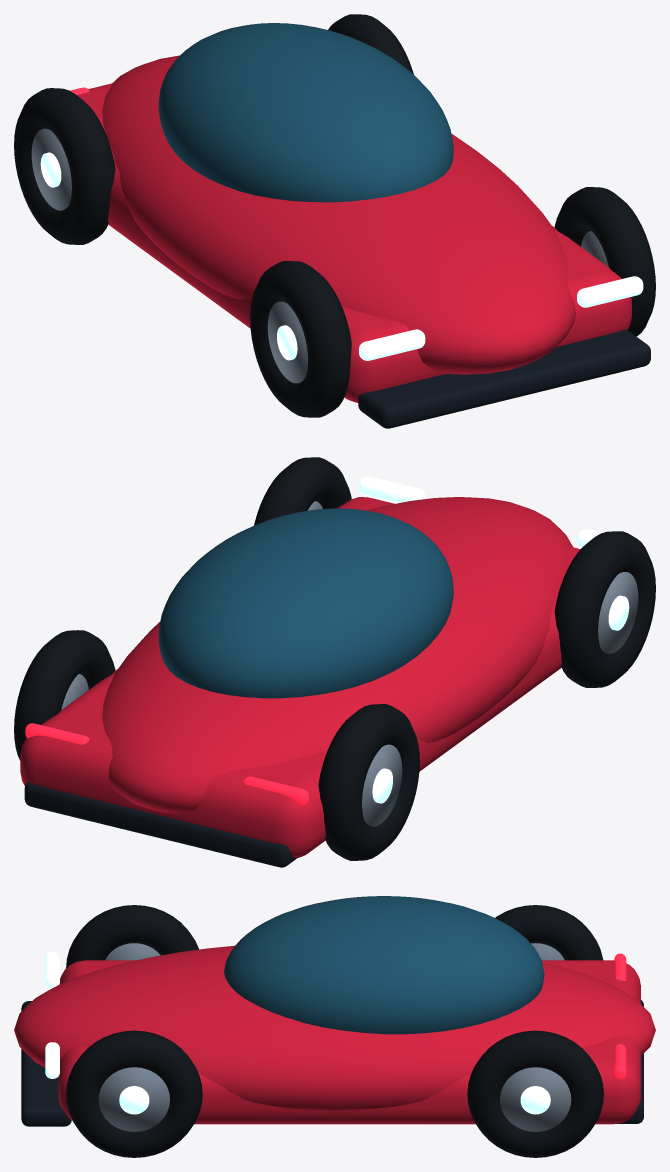
The model's file is rainline_apex_s.glb.
The picture shows the model from 3 angles, top to bottom: view 1: azimuth 30°, elevation 25°; view 2: azimuth 150°, elevation 25°; view 3: azimuth 270°, elevation 25°; orthographic projection. The views are drawn at different scales.
Parts seen in each view (by area): view 1: Apex smooth body, Apex glass canopy, Apex lower body, Apex front splitter, Apex wheel Tire, Apex wheel Tire.001, Apex wheel Tire.002, Apex wheel Rim.001, Apex wheel Rim, Apex wheel Tire.003, Apex headlight.001, Apex headlight; view 2: Apex smooth body, Apex glass canopy, Apex lower body, Apex wheel Tire, Apex wheel Tire.001, Apex rear diffuser, Apex wheel Tire.003, Apex wheel Tire.002, Apex wheel Rim.001, Apex wheel Rim, Apex headlight.001, Apex taillight (+1 smaller); view 3: Apex smooth body, Apex glass canopy, Apex lower body, Apex wheel Tire.002, Apex wheel Tire.003, Apex wheel Tire, Apex wheel Tire.001, Apex wheel Rim.002, Apex wheel Rim.003, Apex front splitter, Apex wheel Brake.002, Apex wheel Brake.003 (+5 smaller).
Boxes of the visible parts, box(x1,y1,x2,y2) form: Apex smooth body: box(102, 55, 575, 374); Apex glass canopy: box(158, 23, 453, 202); Apex lower body: box(77, 83, 631, 402); Apex front splitter: box(358, 329, 650, 428); Apex wheel Tire: box(250, 261, 351, 417); Apex wheel Tire.001: box(14, 88, 115, 244); Apex wheel Tire.002: box(554, 187, 655, 336); Apex wheel Rim.001: box(31, 128, 71, 210); Apex wheel Rim: box(267, 301, 307, 383); Apex wheel Tire.003: box(328, 14, 413, 74); Apex headlight.001: box(577, 276, 643, 307); Apex headlight: box(359, 329, 425, 360); Apex smooth body: box(102, 497, 572, 813); Apex glass canopy: box(158, 508, 453, 698); Apex lower body: box(20, 497, 580, 858); Apex wheel Tire: box(554, 531, 655, 687); Apex wheel Tire.001: box(318, 704, 419, 860); Apex rear diffuser: box(24, 782, 296, 867); Apex wheel Tire.003: box(14, 630, 115, 760); Apex wheel Tire.002: box(254, 457, 351, 525); Apex wheel Rim.001: box(362, 744, 402, 826); Apex wheel Rim: box(598, 572, 638, 653); Apex headlight.001: box(359, 476, 425, 503); Apex taillight: box(244, 776, 308, 805); Apex smooth body: box(14, 945, 655, 1110); Apex glass canopy: box(224, 896, 544, 1034); Apex lower body: box(58, 960, 640, 1124); Apex wheel Tire.002: box(66, 1030, 202, 1157); Apex wheel Tire.003: box(467, 1030, 603, 1157); Apex wheel Tire: box(66, 905, 199, 968); Apex wheel Tire.001: box(495, 905, 603, 960); Apex wheel Rim.002: box(98, 1067, 169, 1131); Apex wheel Rim.003: box(500, 1067, 571, 1131); Apex front splitter: box(21, 1001, 71, 1126); Apex wheel Brake.002: box(119, 1086, 149, 1114); Apex wheel Brake.003: box(520, 1086, 550, 1114).
Size of the model in its own units: 2.26 by 1.35 by 4.32.
